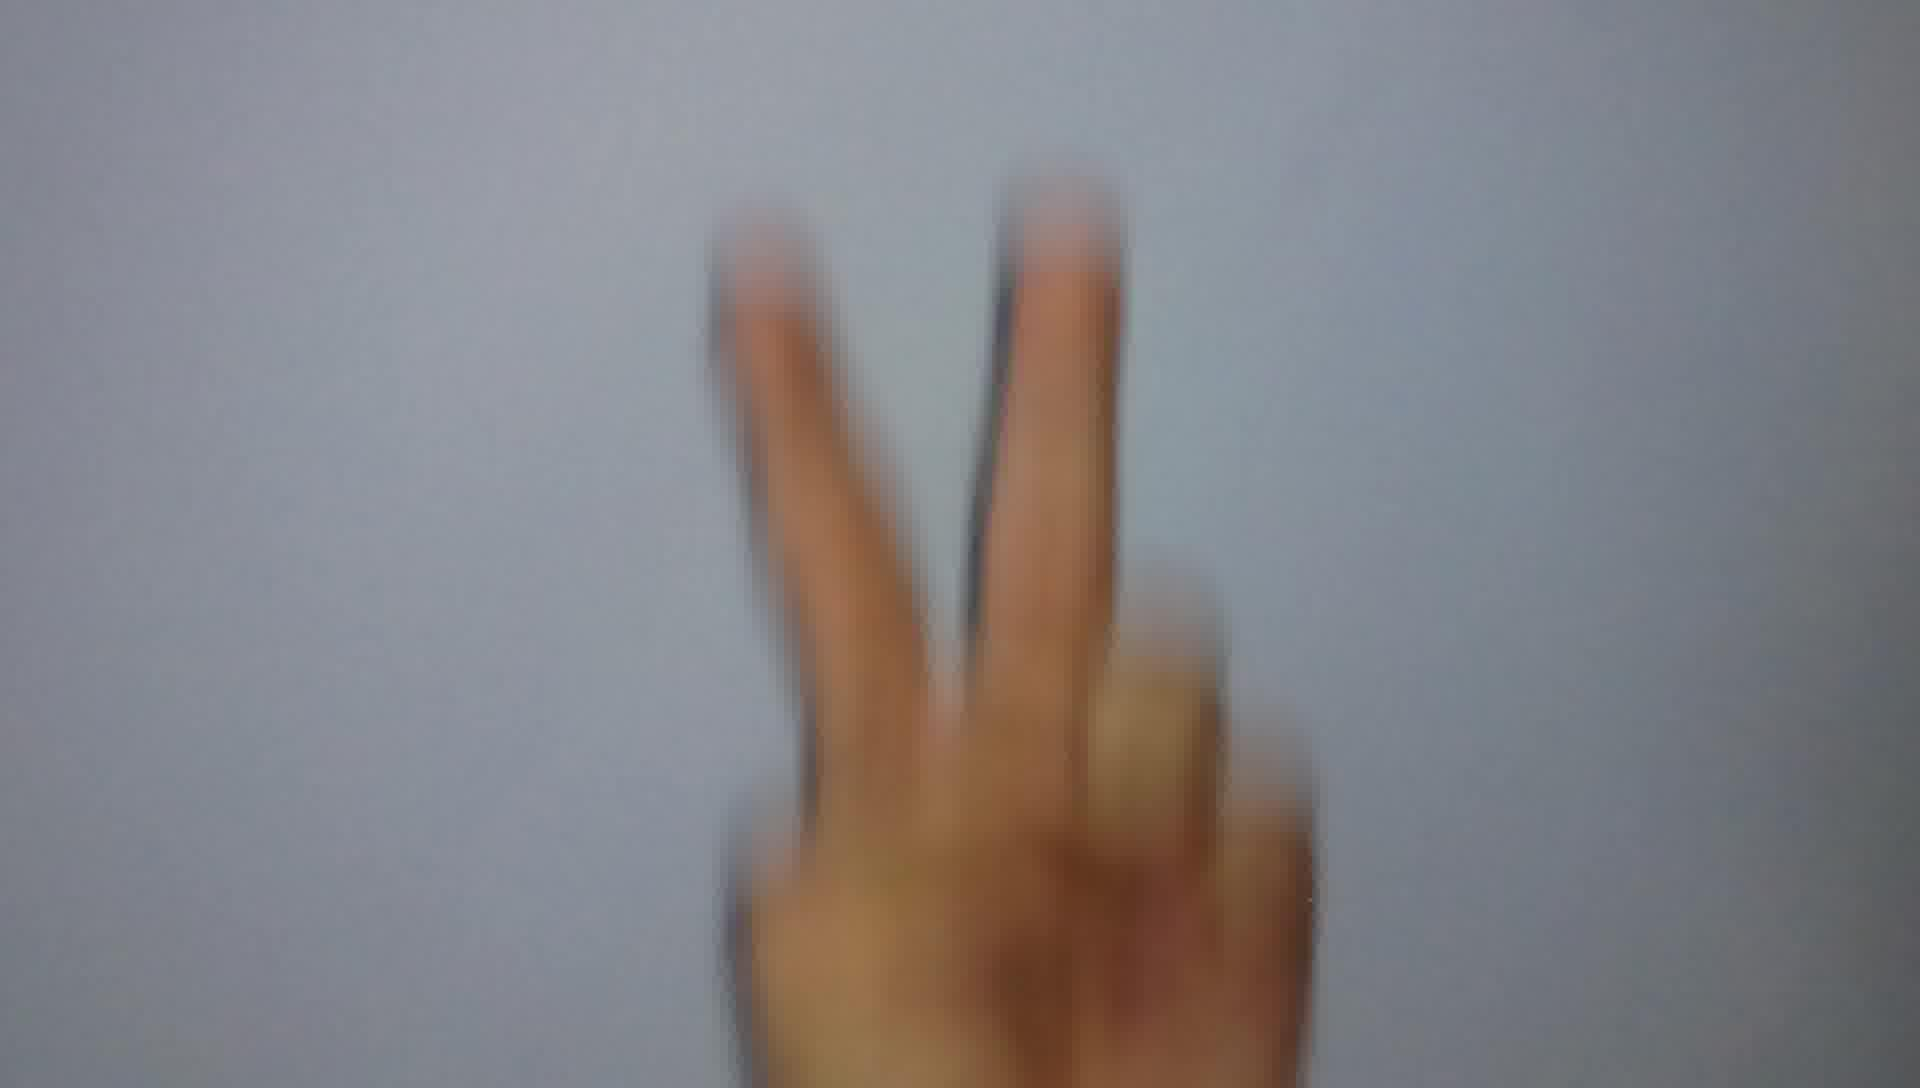V: (690, 124, 1324, 1088)
